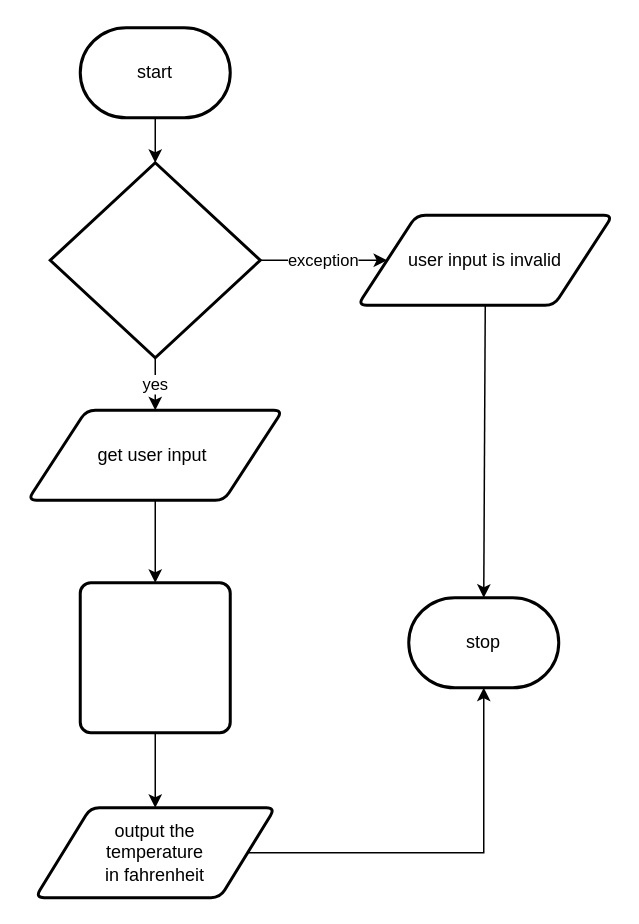
The diagram is 639 pixels wide and 924 high, and some of its shapes have lost their labels. The box of each missing label's shape, as (x1, y1, x2, y2) in pixels:
fahrenheit = (9/5) * userinput + 32: (78, 580, 231, 734)
Try: (48, 160, 261, 358)
